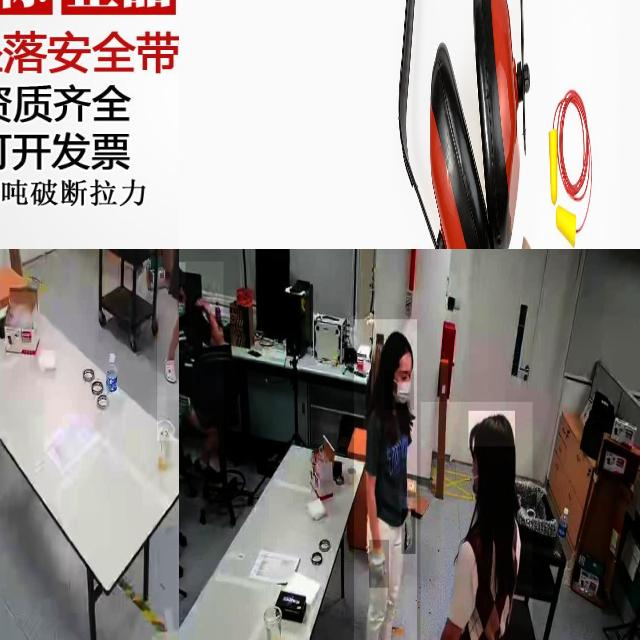Ear-protection: (428, 36, 494, 249), (469, 0, 520, 249)
face_mask: (384, 371, 414, 410), (179, 295, 188, 326)
hand_glove: (369, 540, 389, 588), (402, 508, 416, 554)
hand_noglove: (192, 296, 207, 310)
head_nohelmet: (468, 411, 516, 447), (377, 328, 414, 358), (179, 262, 186, 285)
person: (420, 401, 533, 640), (354, 319, 417, 640), (179, 261, 224, 470)
